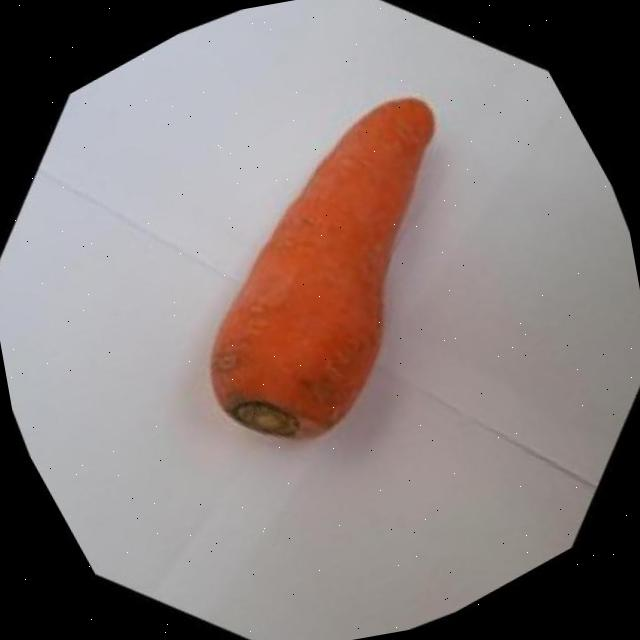carrot: (212, 98, 434, 437)
